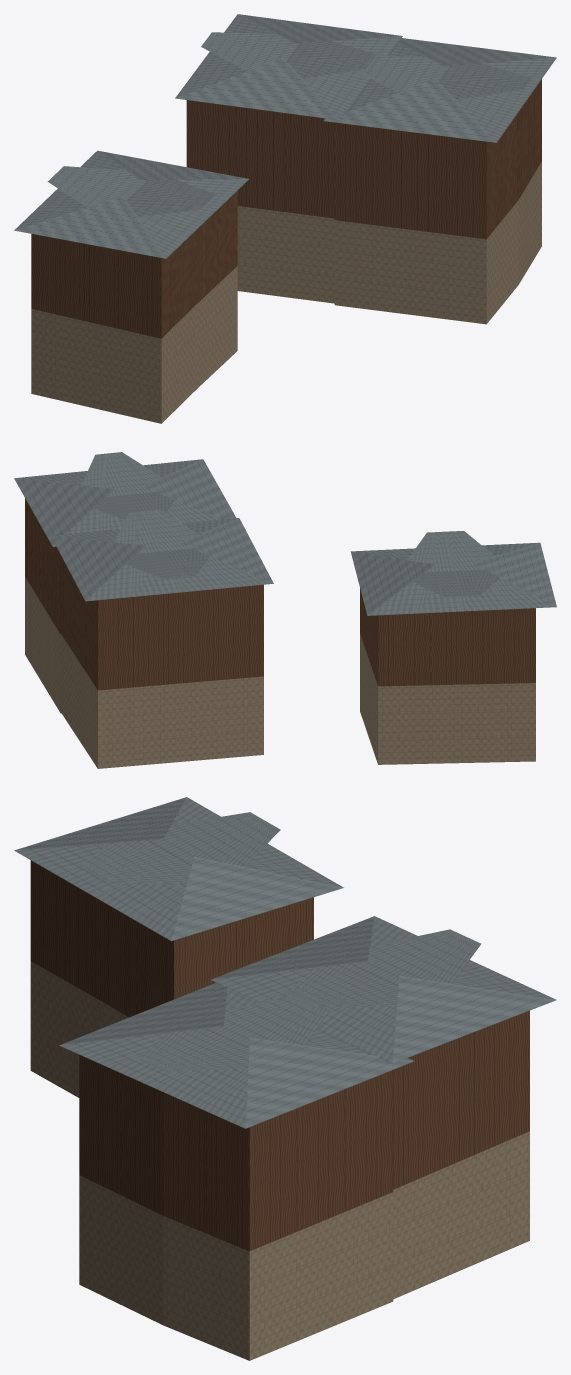
Rendered from bld_c-4_10_559.gltf.
The picture shows the model from 3 angles, top to bottom: view 1: azimuth 30°, elevation 25°; view 2: azimuth 150°, elevation 25°; view 3: azimuth 270°, elevation 25°; orthographic projection. The views are drawn at different scales.
Parts seen in each view (by area): view 1: bld_c-4_10_559; view 2: bld_c-4_10_559; view 3: bld_c-4_10_559.
Part boxes in pixels (bbox=[...]): bld_c-4_10_559: bbox=[14, 14, 556, 423]; bld_c-4_10_559: bbox=[14, 452, 556, 768]; bld_c-4_10_559: bbox=[14, 797, 556, 1360].
Size of the model in its own units: 35.51 by 12.5 by 22.92.
Materials: 3 (3 with a texture image).
